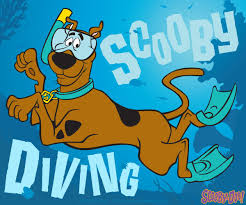scooby: (6, 16, 210, 183)
